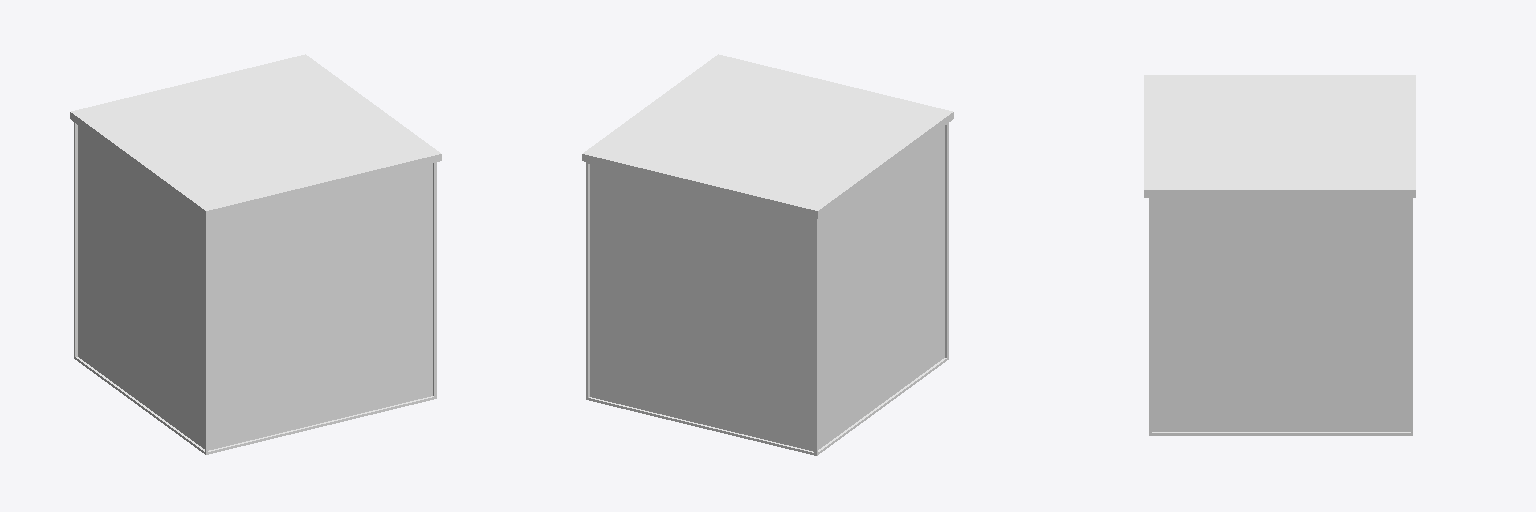
File: block_100_100_100.obj
The picture shows the model from 3 angles: view 1: azimuth 30°, elevation 25°; view 2: azimuth 150°, elevation 25°; view 3: azimuth 270°, elevation 25°; orthographic projection.
Visible parts, largest first — view 1: object 1; view 2: object 1; view 3: object 1.
Boxes of the visible parts, x1=… form: object 1: x1=70, y1=54, x2=441, y2=454; object 1: x1=582, y1=54, x2=953, y2=455; object 1: x1=1144, y1=75, x2=1415, y2=435.
Size of the model in its own units: 10 by 10 by 10.